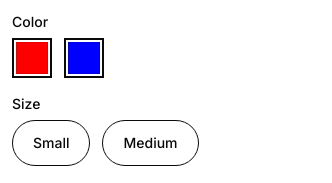
Scenario: VariantSelector Component - Storefront Custom Themes › renders color options as circular swatches with checkmarks when active
Step 1. Click the button named "Red" → (32, 58), box [12,38,52,78]
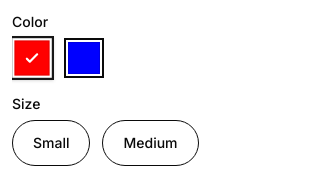
expect the element with class "swatch-checkmark" is shown: met, box [23,49,41,67]
